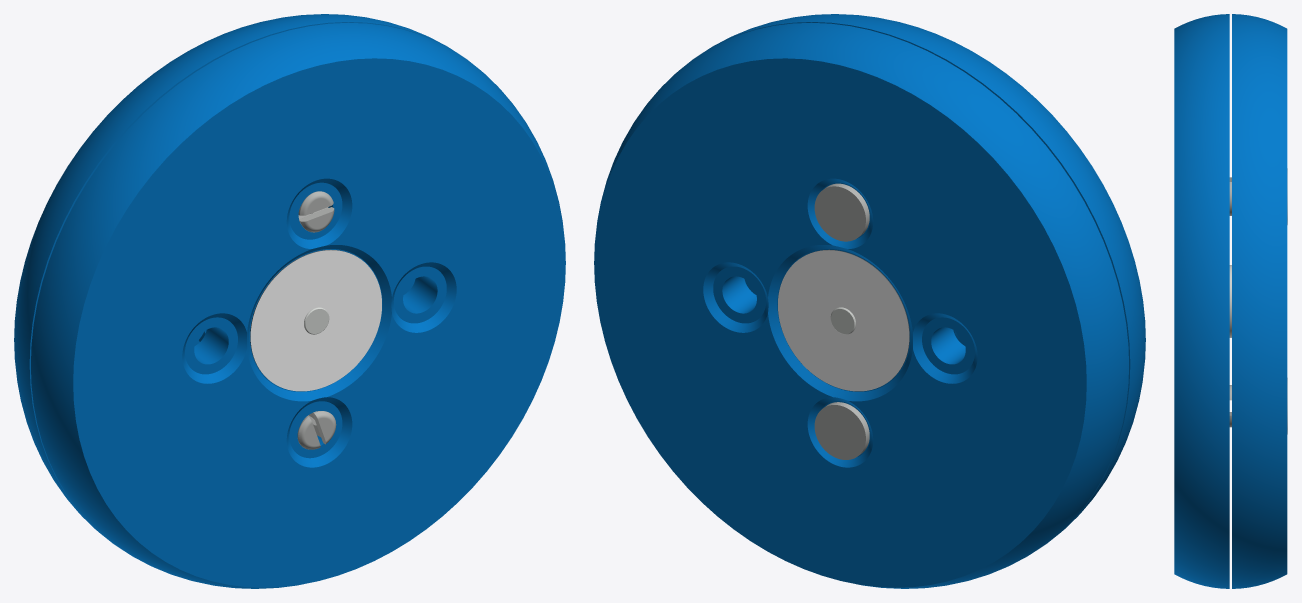
3 renders of one model, left to right at view 1: azimuth 30°, elevation 25°; view 2: azimuth 150°, elevation 25°; view 3: azimuth 270°, elevation 25°, orthographic. The views are drawn at different scales.
Parts seen in each view (by area): view 1: NAUO3, NAUO7, NAUO1, NAUO5, NAUO4; view 2: NAUO1, NAUO6, NAUO3, NAUO5, NAUO4; view 3: NAUO3, NAUO1, NAUO2, NAUO5.
Part boxes in pixels (bbox=[...]): NAUO3: bbox=[31, 22, 565, 588]; NAUO7: bbox=[250, 249, 381, 391]; NAUO1: bbox=[14, 14, 451, 535]; NAUO5: bbox=[298, 191, 334, 232]; NAUO4: bbox=[297, 411, 336, 449]; NAUO1: bbox=[594, 22, 1128, 588]; NAUO6: bbox=[778, 249, 909, 391]; NAUO3: bbox=[708, 14, 1145, 535]; NAUO5: bbox=[814, 183, 869, 241]; NAUO4: bbox=[814, 402, 869, 459]; NAUO3: bbox=[1174, 14, 1229, 588]; NAUO1: bbox=[1232, 14, 1287, 588]; NAUO2: bbox=[1229, 265, 1231, 337]; NAUO5: bbox=[1229, 168, 1287, 224].
Bounding box in the file's own units: 0.0632 × 0.0632 × 0.0125.
